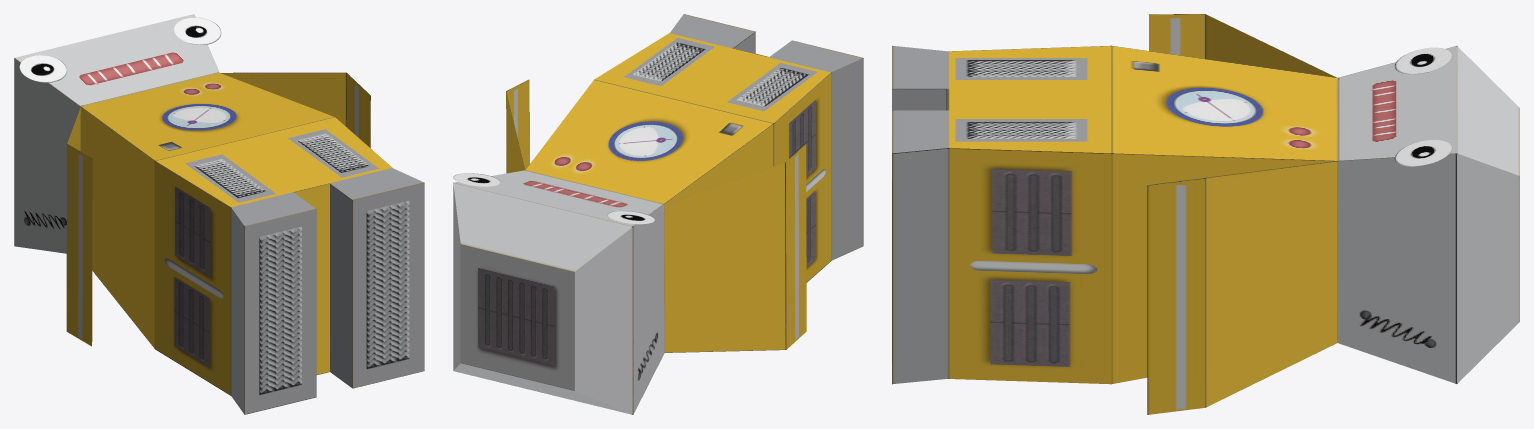
The model's file is robot1.fbx.
3 renders of one model, left to right at view 1: azimuth 30°, elevation 25°; view 2: azimuth 150°, elevation 25°; view 3: azimuth 270°, elevation 25°, orthographic. The views are drawn at different scales.
Parts seen in each view (by area): view 1: Cube; view 2: Cube; view 3: Cube.
Boxes of the visible parts, x1,y1,x2,y2 form: Cube: (14, 14, 424, 414); Cube: (453, 14, 863, 414); Cube: (892, 14, 1519, 414).
Bounding box in the file's own units: 3.12 × 2.05 × 4.93.
Materials: 1 (1 with a texture image).
